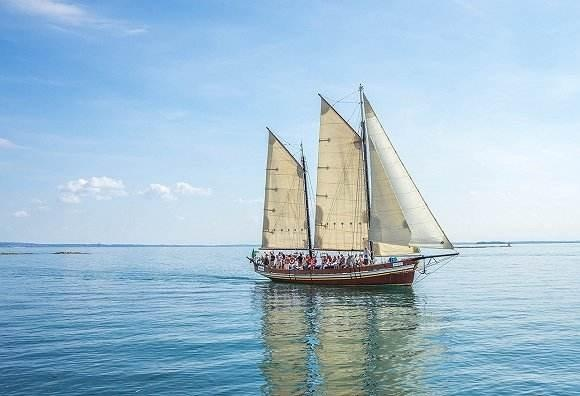fanchuan: (251, 73, 459, 287)
